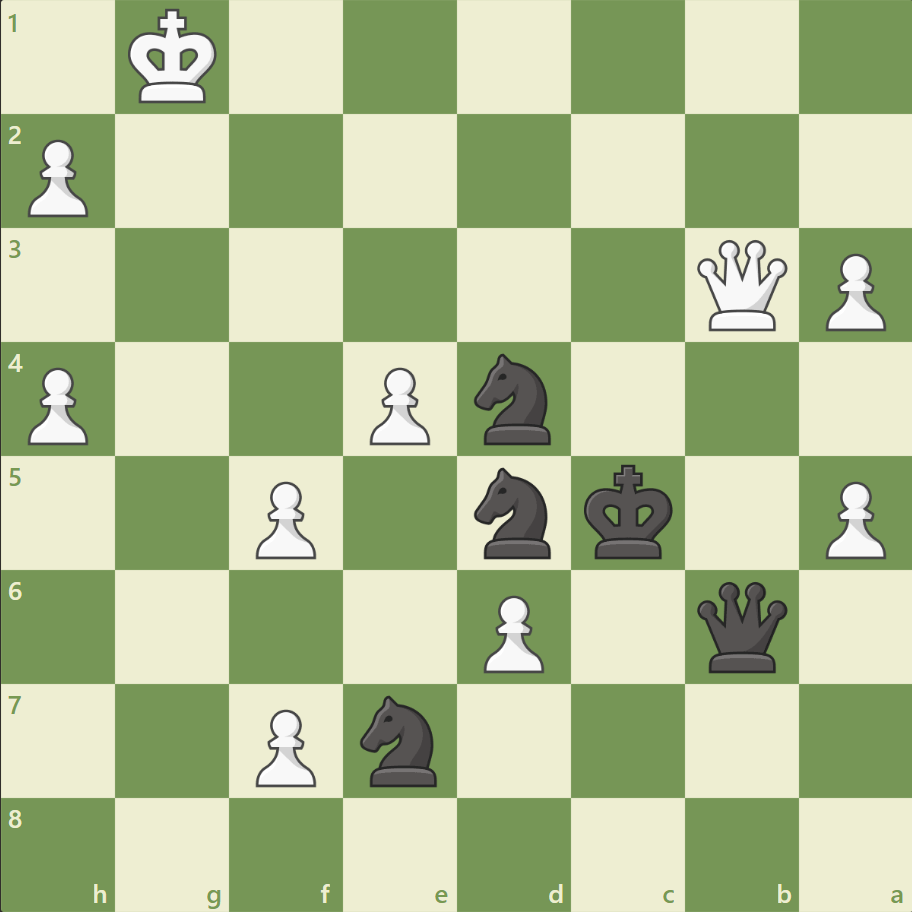K: (124, 4, 224, 112)
P: (247, 700, 322, 791), (474, 586, 549, 677), (247, 473, 322, 564), (20, 359, 95, 450), (20, 132, 95, 223), (815, 473, 889, 564), (361, 359, 435, 450), (815, 246, 889, 337)
Q: (691, 236, 790, 335)
k: (579, 458, 679, 566)
n: (351, 688, 449, 791), (465, 461, 562, 564), (465, 348, 562, 450)
q: (691, 576, 790, 676)
